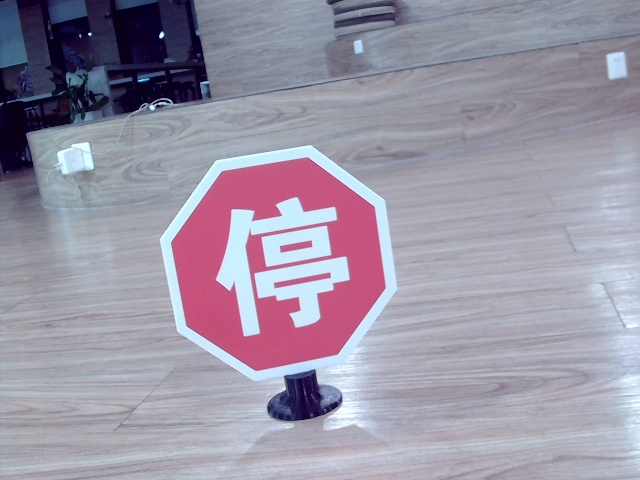stop: (213, 200, 350, 333)
